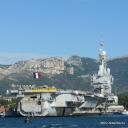Portanaves: (10, 32, 119, 119)
